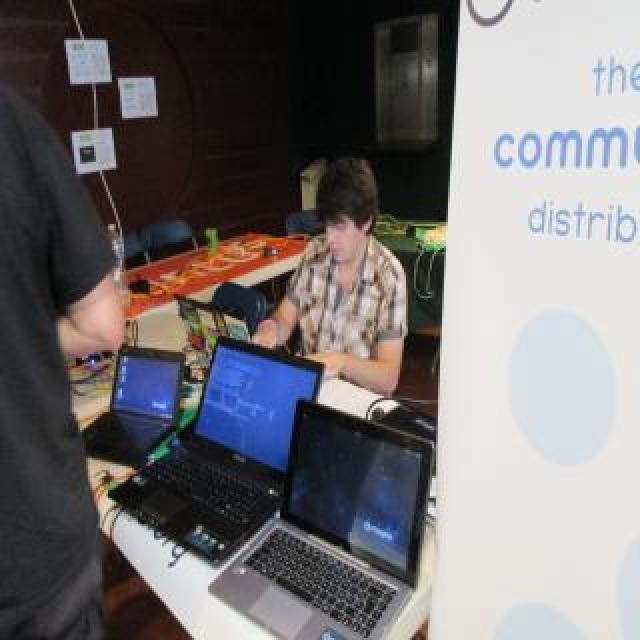laptop_computer: (217, 410, 448, 640), (138, 333, 317, 527), (80, 346, 192, 446)
